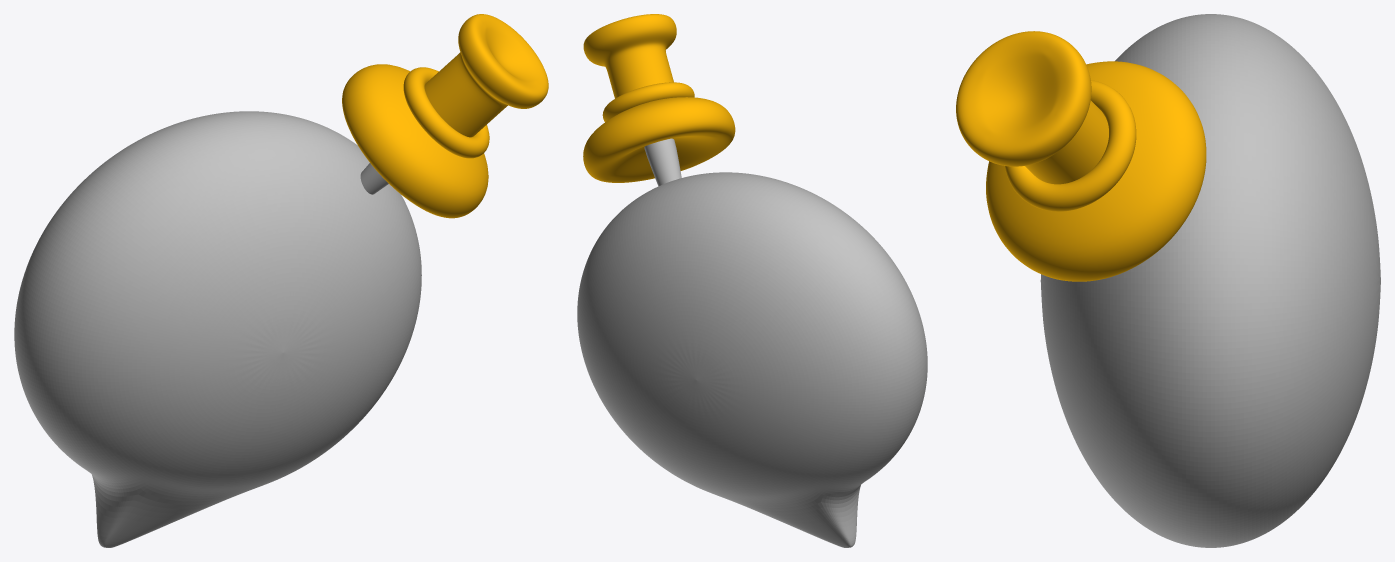
The model's file is pin-message-animated-3d-icon-1202192430148.glb.
3 renders of one model, left to right at view 1: azimuth 30°, elevation 25°; view 2: azimuth 150°, elevation 25°; view 3: azimuth 270°, elevation 25°, orthographic. The views are drawn at different scales.
Parts seen in each view (by area): view 1: Bubble Chat.001, Pin Base; view 2: Bubble Chat.001, Pin Base, Tip; view 3: Bubble Chat.001, Pin Base.
Boxes of the visible parts, x1,y1,x2,y2 form: Bubble Chat.001: (14,111,421,547); Pin Base: (342,14,548,218); Bubble Chat.001: (577,172,927,547); Pin Base: (583,14,735,182); Tip: (644,138,681,186); Bubble Chat.001: (1040,14,1380,547); Pin Base: (956,31,1206,281).
Bounding box in the file's own units: 1.21 × 1.28 × 0.7608.
